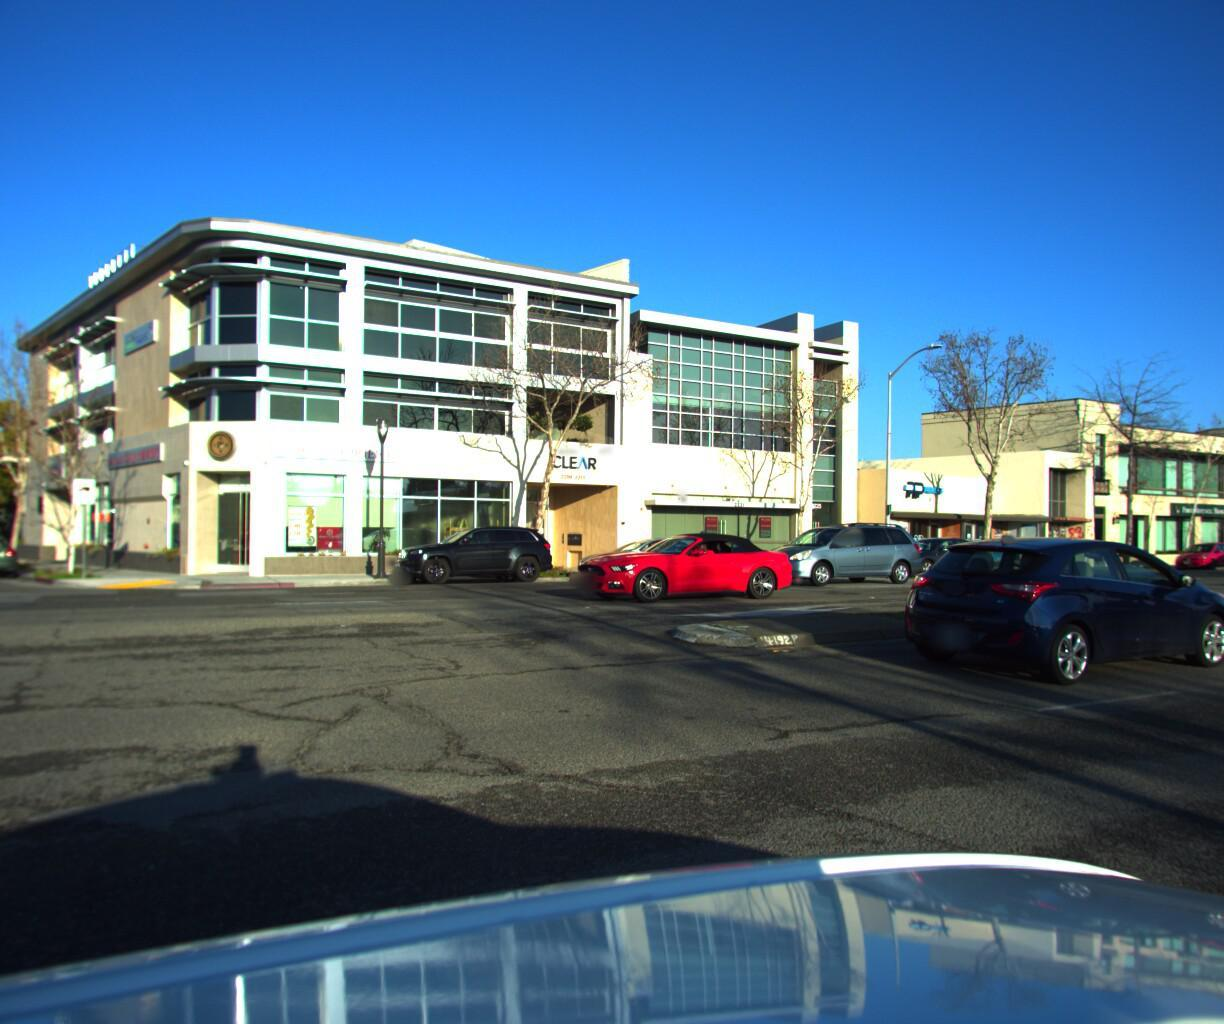car: (876, 515, 1224, 692), (561, 519, 801, 600), (757, 513, 948, 586), (380, 520, 561, 588), (564, 531, 721, 585), (876, 528, 1006, 571), (1160, 532, 1224, 566)
